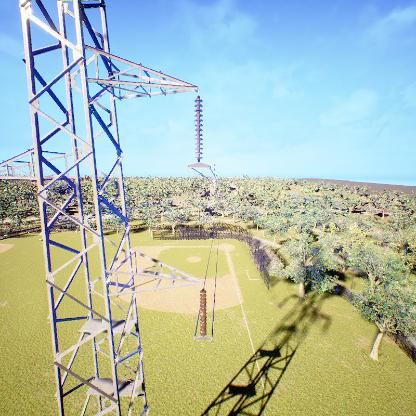insulator: (192, 96, 205, 162), (198, 287, 207, 337)
